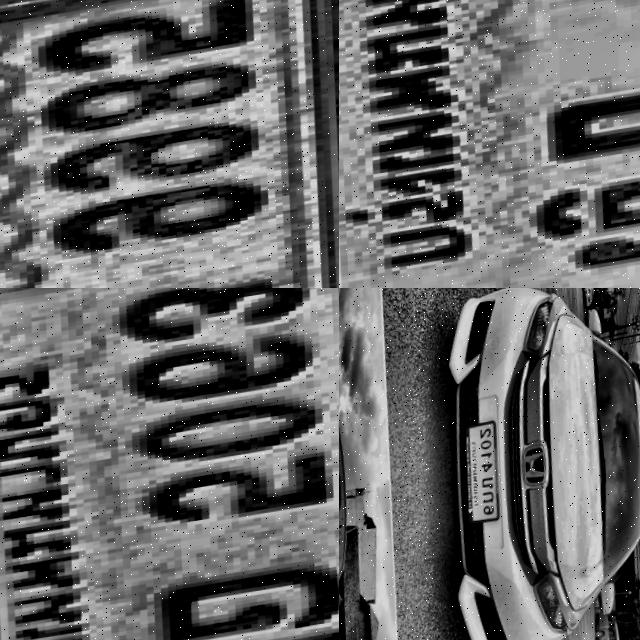license-plate: (0, 288, 339, 640), (0, 0, 339, 288), (339, 0, 640, 288), (456, 421, 520, 532)
